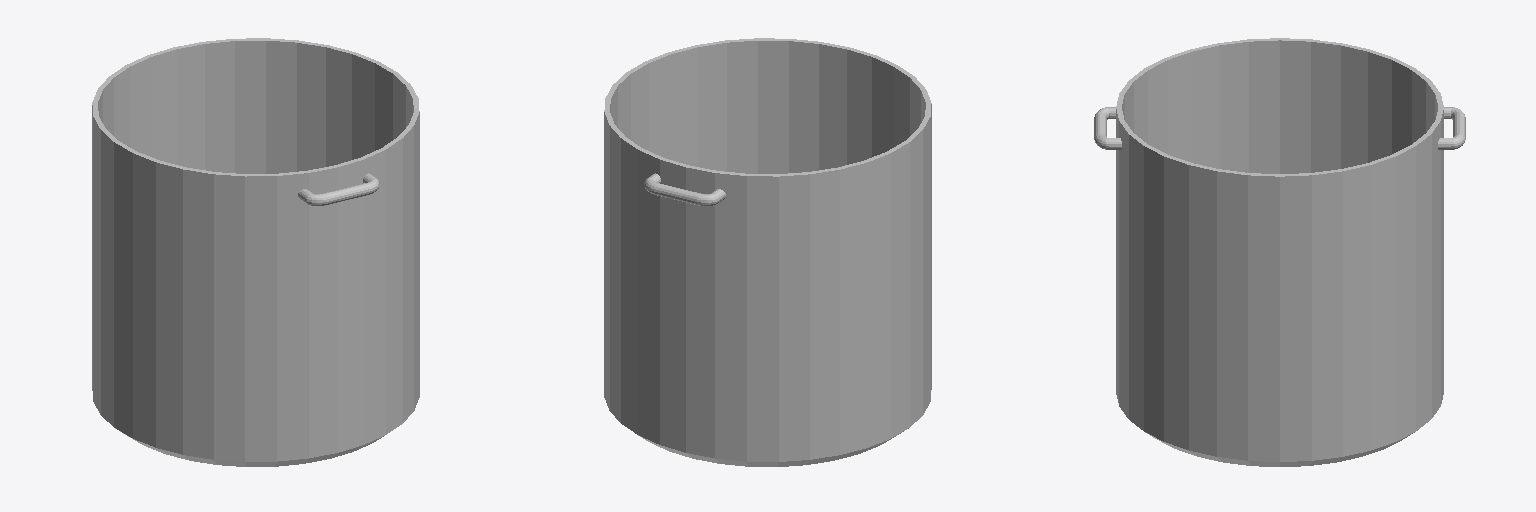
Rendered from MYStockPot.obj.
The picture shows the model from 3 angles: view 1: azimuth 30°, elevation 25°; view 2: azimuth 150°, elevation 25°; view 3: azimuth 270°, elevation 25°; orthographic projection.
Visible parts, largest first — view 1: MYStockPot; view 2: MYStockPot; view 3: MYStockPot.
Part boxes in pixels (x1,y1,x2,y2): MYStockPot: (92,38,419,466); MYStockPot: (604,38,931,466); MYStockPot: (1094,38,1465,466).
Size of the model in its own units: 0.8 by 0.8001 by 0.9063.